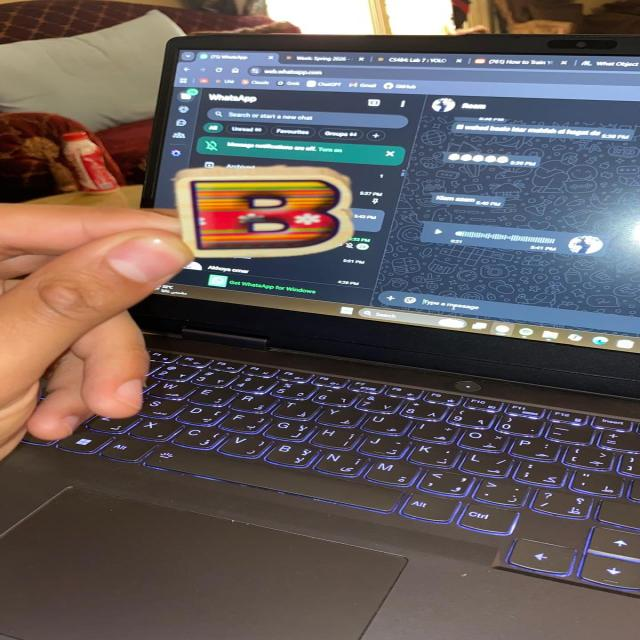B: (174, 166, 353, 258)
